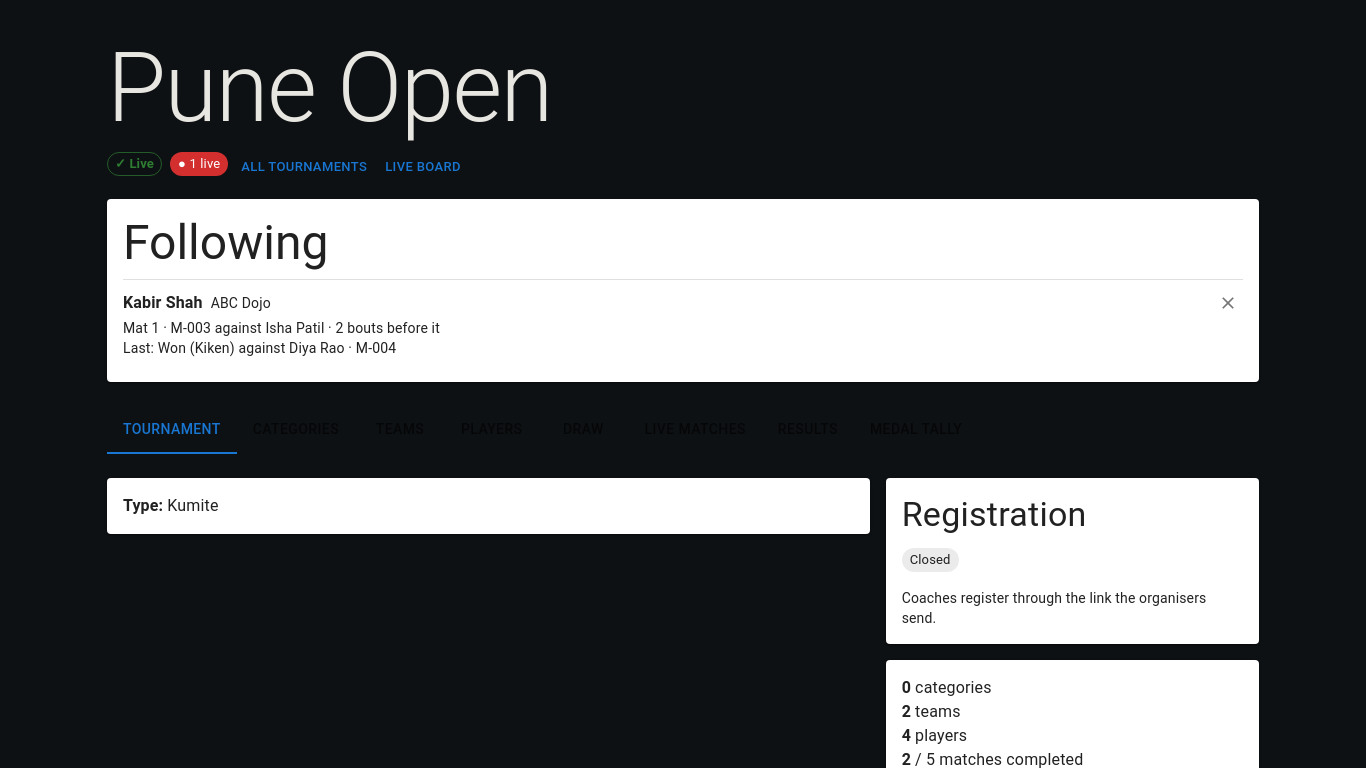
Test: following athletes and clubs on the public page › stops following an athlete from the card
The width and height of the screenshot is (1366, 768).
Expected: the text "Mat 1 · M-003 against Isha Patil · 2 bouts before it" is shown, [123,318,440,338]
Click the button named "Stop following Kabir Shah" at (1228, 303), box [1213,288,1243,318]
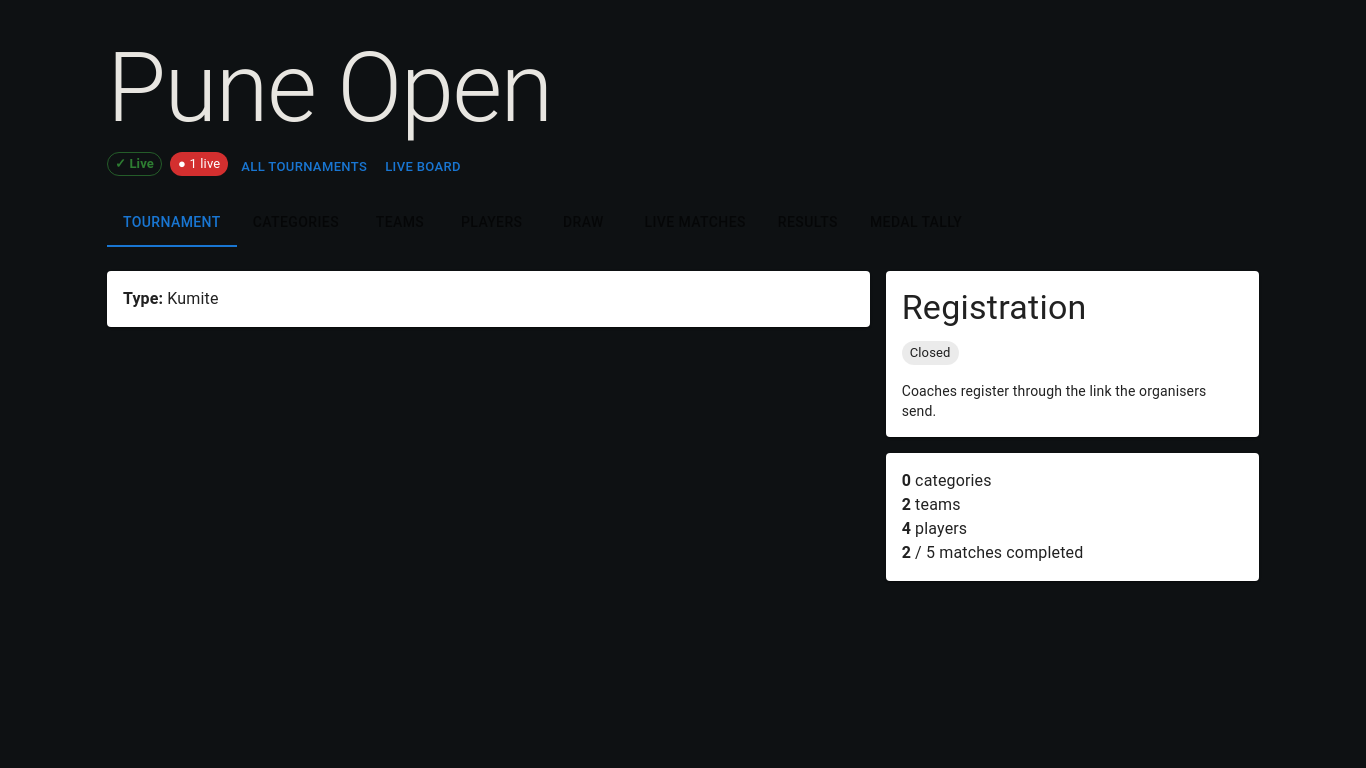
Result: the button with test id "following" is gone
